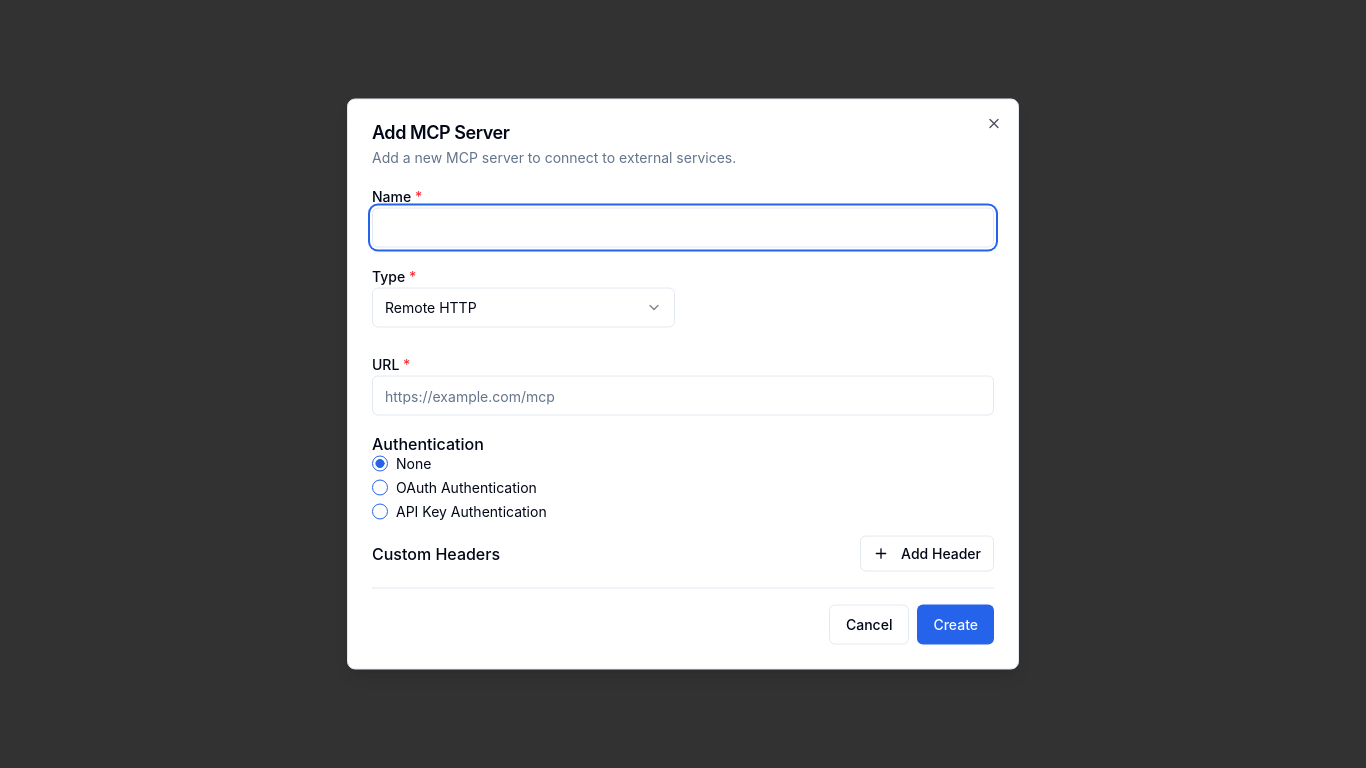
it: McpServerForm › should allow selecting server type
Check: the dialog is shown, box [347,98,1019,670]
Click the dropdown named "type" at (431, 307), box [372,288,675,328]
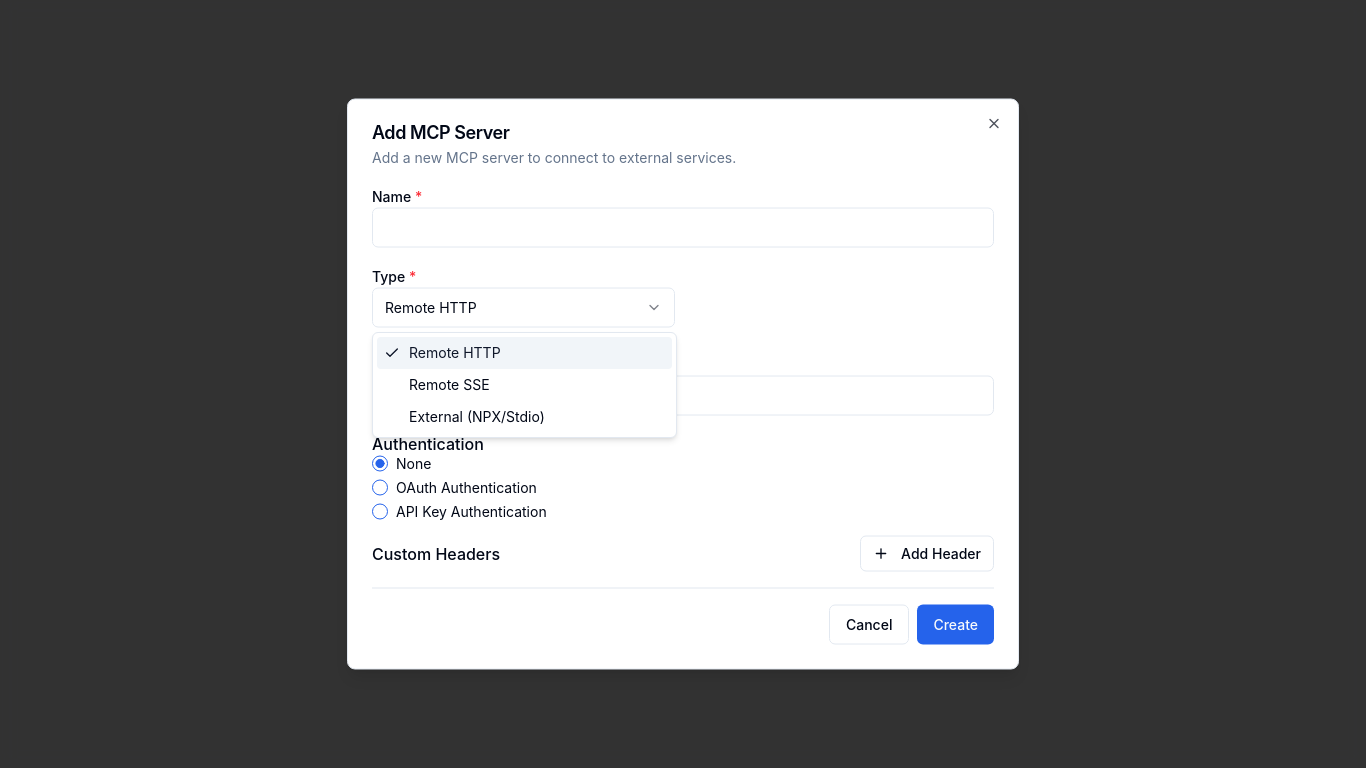
Check: the option "Remote SSE" is shown
Click the option "Remote SSE" at (449, 384), box [409,376,490,393]
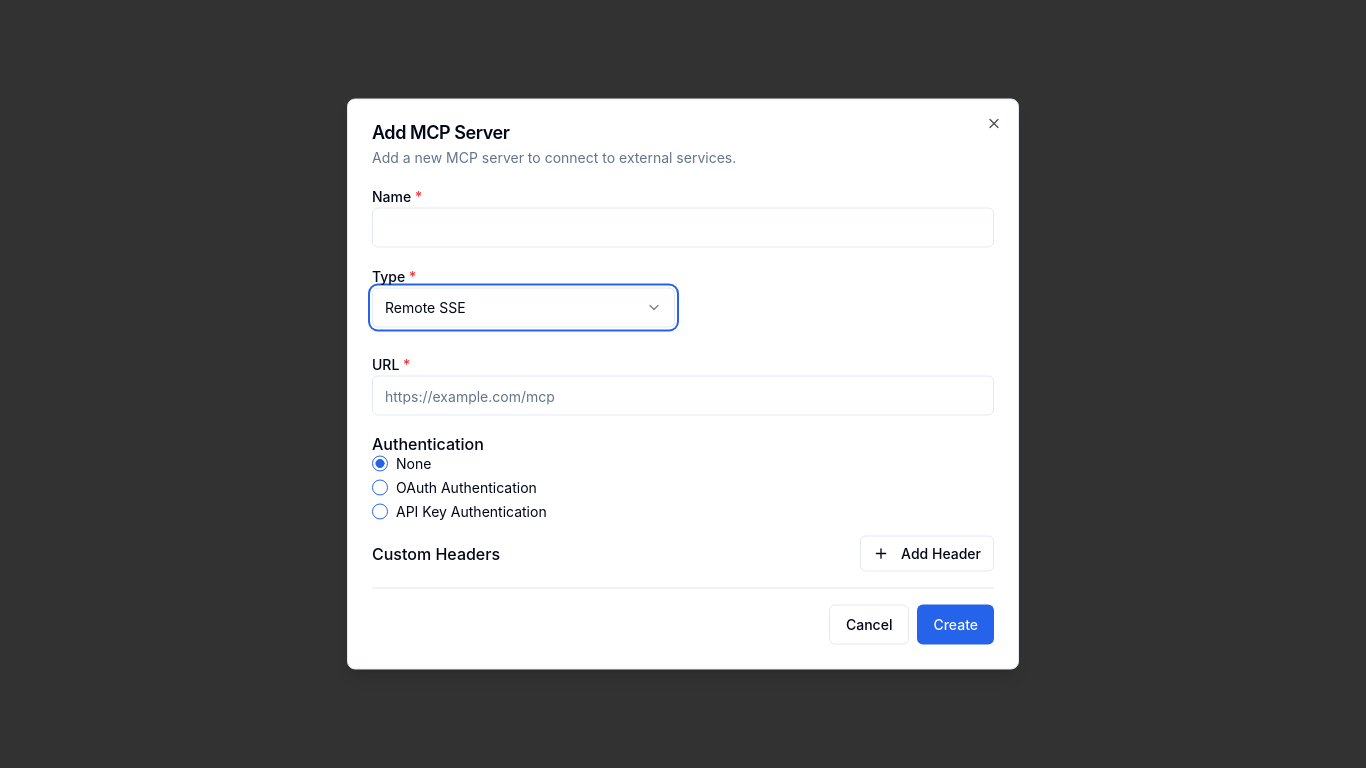
Check: the dropdown named "type" reads "Remote SSE", box [372,288,675,328]
